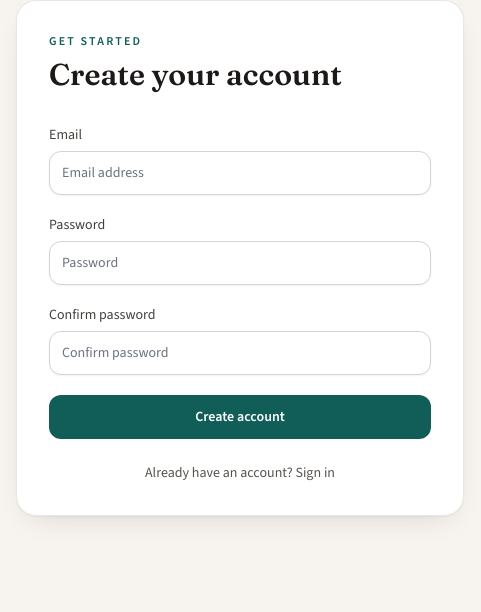
Test: Register › shows error message on registration failure
Type "test@example.com" into the field with placeholder "Email address" at (240, 173), box [49, 151, 431, 195]
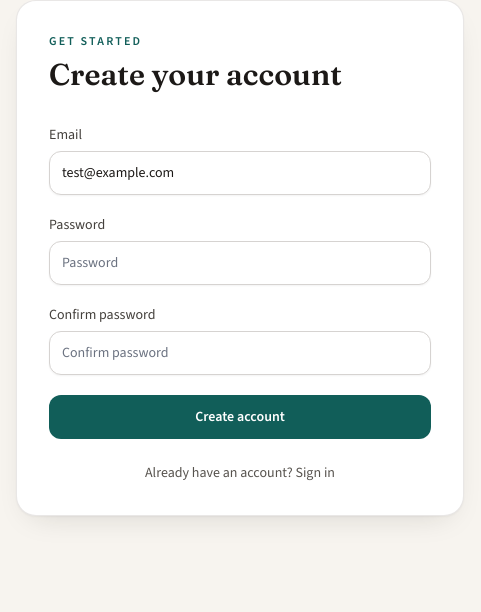
Type "password123" into the password field with placeholder "Password" at (240, 263), box [49, 241, 431, 285]
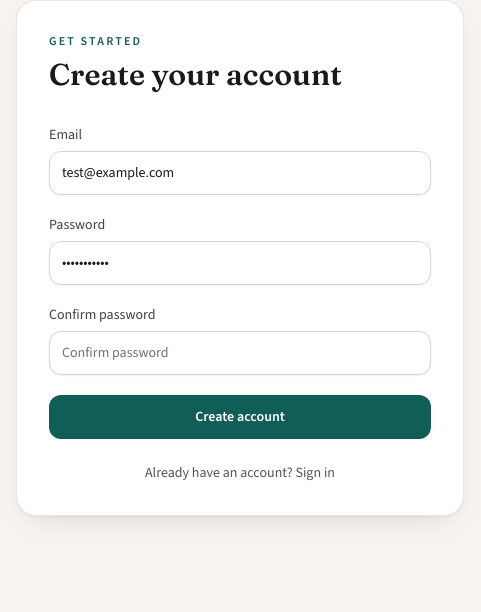
Type "password123" into the password field with placeholder "Confirm password" at (240, 353), box [49, 331, 431, 375]
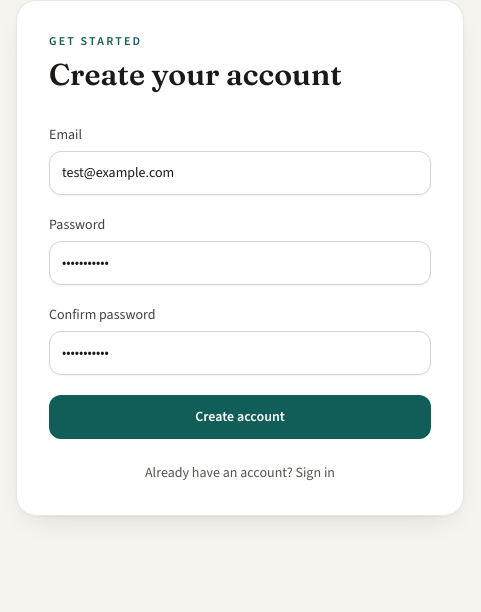
Click the button "Create account" at (240, 417), box [49, 395, 431, 439]
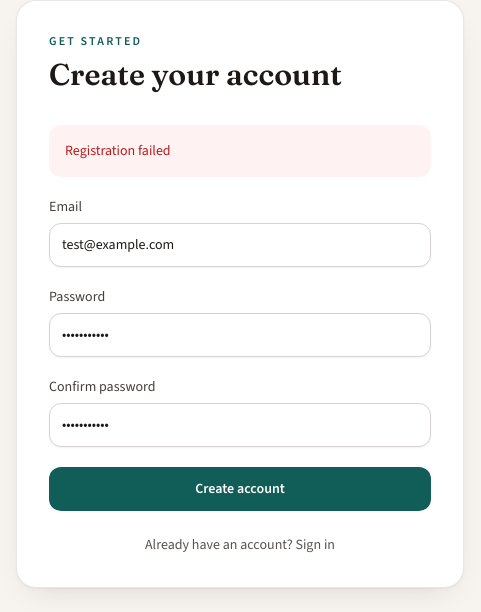
expect the text "Registration failed" is shown: met, box [65, 141, 171, 160]
